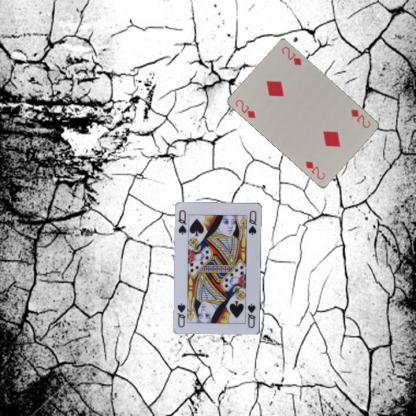2d: (233, 96, 258, 120), (348, 106, 372, 130)
Qs: (176, 207, 188, 236), (245, 302, 257, 330)
